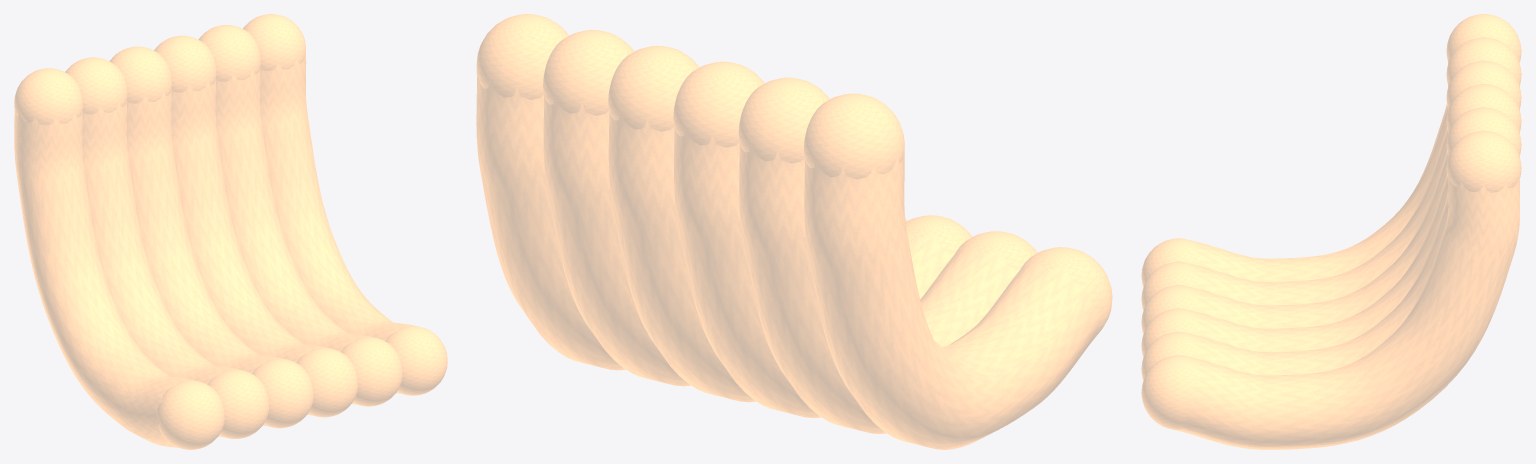
The model's file is ref06_07.glb.
3 renders of one model, left to right at view 1: azimuth 30°, elevation 25°; view 2: azimuth 150°, elevation 25°; view 3: azimuth 270°, elevation 25°, orthographic. The views are drawn at different scales.
Visible parts, largest first — view 1: ref06_07; view 2: ref06_07; view 3: ref06_07.
Boxes of the visible parts, left/top/right/bottom form: ref06_07: left=14, top=14, right=447, bottom=449; ref06_07: left=476, top=14, right=1112, bottom=449; ref06_07: left=1141, top=14, right=1521, bottom=449.
Size of the model in its own units: 0.795 by 0.7758 by 0.86.
Materials: 1 (1 with a texture image).
